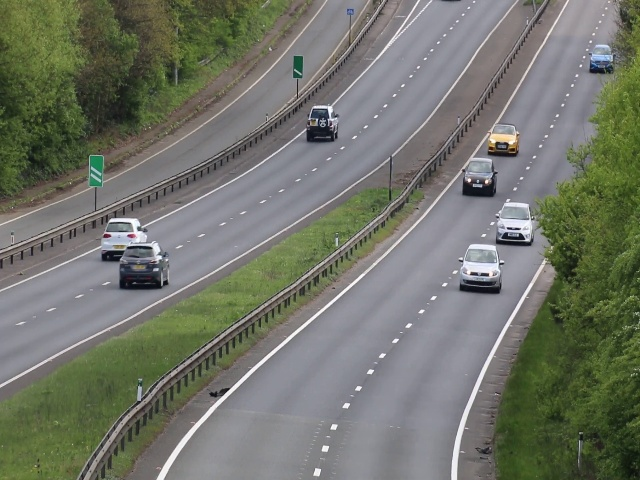car: (117, 240, 170, 289), (459, 241, 503, 295), (496, 201, 534, 244), (304, 103, 343, 143), (461, 158, 497, 198), (99, 217, 129, 260), (486, 123, 521, 157), (590, 42, 615, 74)
